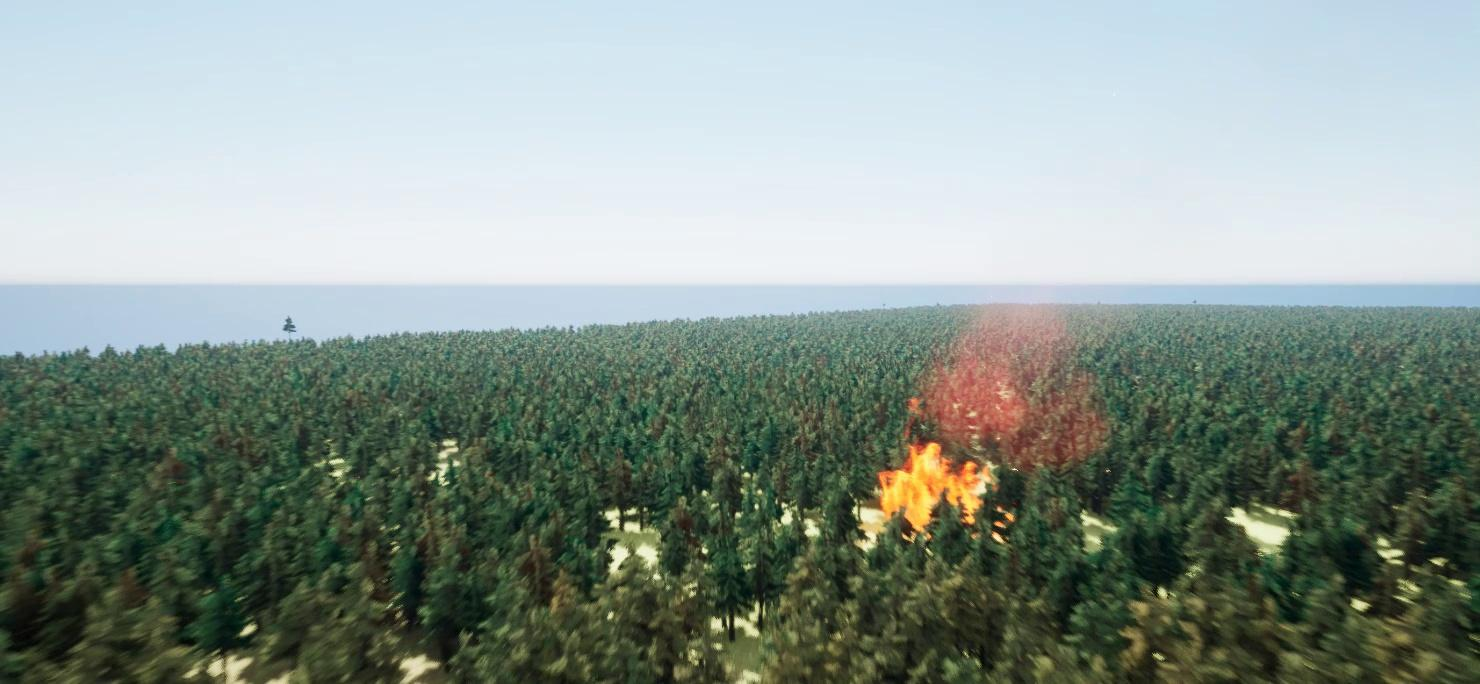fire: (877, 438, 997, 546)
smoke: (918, 300, 1126, 464)
